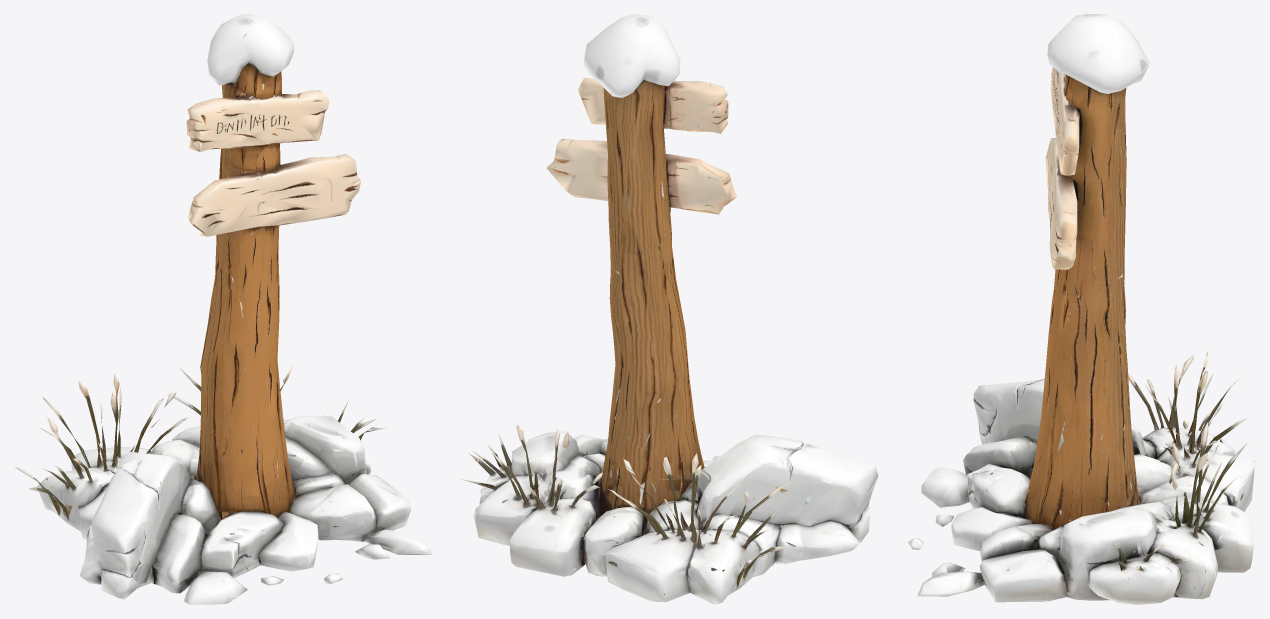
The model's file is signpost_wood.glb.
3 views of the same model, side by side, from view 1: azimuth 30°, elevation 25°; view 2: azimuth 150°, elevation 25°; view 3: azimuth 270°, elevation 25° (orthographic). The views are drawn at different scales.
Size of the model in its own units: 1.35 by 1.9 by 1.13.
1 material, 1 textured.
